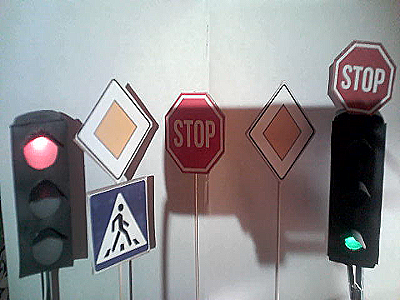crosswalk: (95, 186, 148, 262)
priority_road: (77, 79, 150, 179), (249, 86, 315, 178)
stop: (165, 94, 224, 172), (334, 43, 394, 115)
trafficlight_green: (330, 120, 379, 262)
trafficlight_red: (18, 124, 71, 266)
